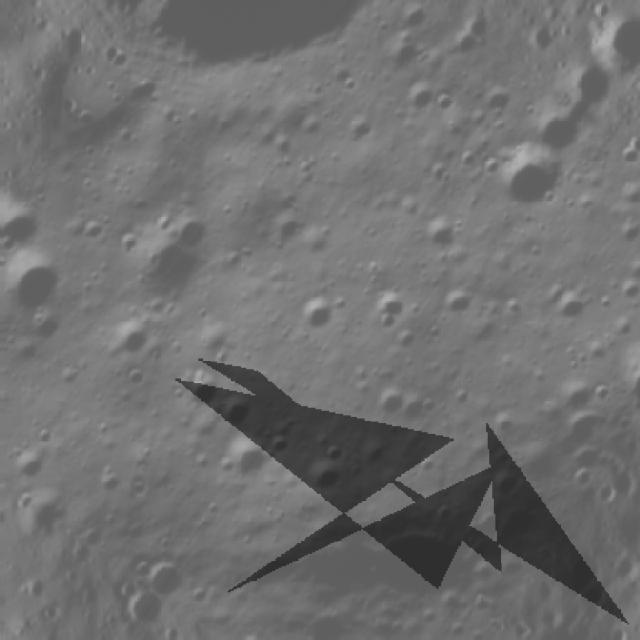crater: (288, 464, 509, 640), (114, 213, 229, 330), (479, 133, 573, 227), (518, 91, 602, 172), (0, 241, 71, 325), (98, 306, 176, 382), (530, 271, 598, 338), (350, 368, 416, 437), (249, 196, 314, 264), (284, 286, 350, 352), (289, 439, 354, 503), (402, 200, 466, 265), (166, 357, 228, 421), (357, 277, 418, 340), (137, 548, 201, 608), (426, 273, 486, 336), (382, 72, 442, 132), (0, 438, 58, 495), (552, 368, 608, 426), (218, 432, 271, 490), (474, 458, 528, 513), (209, 383, 260, 432), (600, 208, 640, 261), (603, 268, 640, 320), (480, 400, 523, 443), (228, 618, 282, 640), (614, 175, 640, 213), (318, 638, 398, 640)
